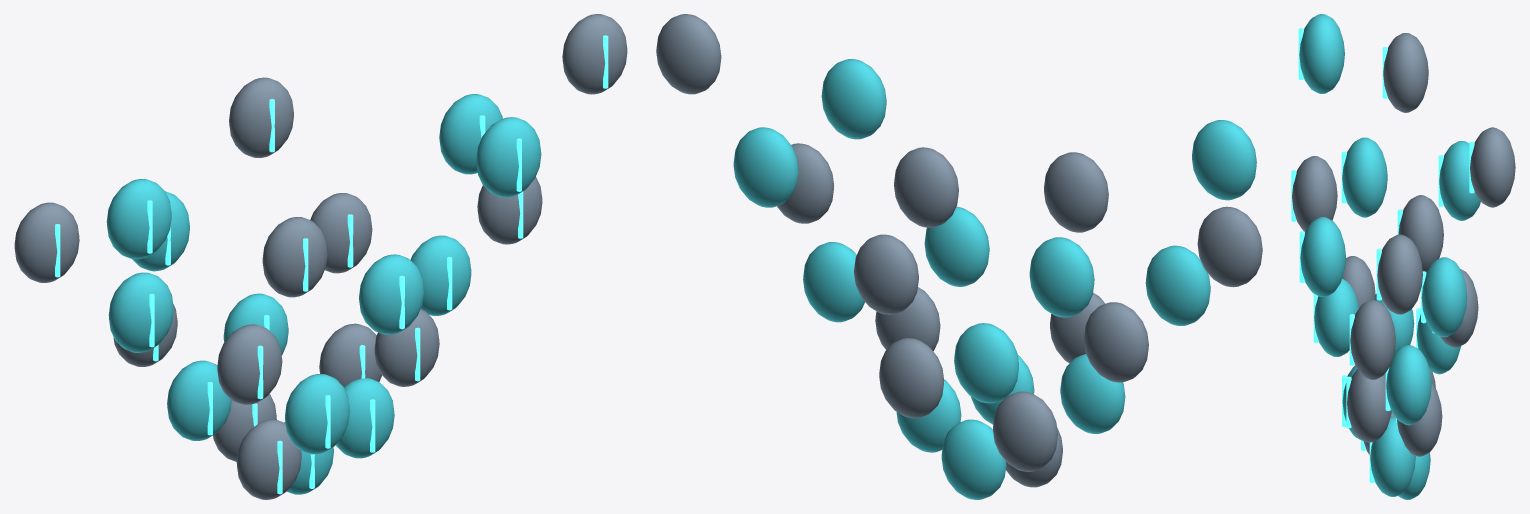
Rendered from swarm_v6.glb.
3 views of the same model, side by side, from view 1: azimuth 30°, elevation 25°; view 2: azimuth 150°, elevation 25°; view 3: azimuth 270°, elevation 25° (orthographic). The views are drawn at different scales.
Parts seen in each view (by area): view 1: BEETLE_SWARM_ACCENT.002, BEETLE_SWARM_ACCENT.011, BEETLE_SWARM_ACCENT.007, BEETLE_SWARM_PRIMARY.009, BEETLE_SWARM_PRIMARY.008, BEETLE_SWARM_PRIMARY.011, BEETLE_SWARM_ACCENT.010, BEETLE_SWARM_PRIMARY.004, BEETLE_SWARM_ACCENT.006, BEETLE_SWARM_PRIMARY.010, BEETLE_SWARM_PRIMARY, BEETLE_SWARM_ACCENT.003 (+12 smaller); view 2: BEETLE_SWARM_ACCENT.008, BEETLE_SWARM_ACCENT.010, BEETLE_SWARM_PRIMARY.010, BEETLE_SWARM_PRIMARY.005, BEETLE_SWARM_PRIMARY.006, BEETLE_SWARM_ACCENT.009, BEETLE_SWARM_PRIMARY.001, BEETLE_SWARM_PRIMARY.008, BEETLE_SWARM_ACCENT.004, BEETLE_SWARM_PRIMARY.009, BEETLE_SWARM_PRIMARY.011, BEETLE_SWARM_ACCENT.011 (+12 smaller); view 3: BEETLE_SWARM_ACCENT.011, BEETLE_SWARM_ACCENT.009, BEETLE_SWARM_ACCENT.007, BEETLE_SWARM_ACCENT.010, BEETLE_SWARM_PRIMARY.007, BEETLE_SWARM_PRIMARY.009, BEETLE_SWARM_PRIMARY.010, BEETLE_SWARM_PRIMARY.011, BEETLE_SWARM_ACCENT.005, BEETLE_SWARM_PRIMARY.008, BEETLE_SWARM_PRIMARY.003, BEETLE_SWARM_ACCENT.001 (+9 smaller).
Part boxes in pixels (bbox=[...]): BEETLE_SWARM_ACCENT.002: bbox=[285, 374, 349, 454]; BEETLE_SWARM_ACCENT.011: bbox=[106, 179, 171, 259]; BEETLE_SWARM_ACCENT.007: bbox=[108, 272, 173, 352]; BEETLE_SWARM_PRIMARY.009: bbox=[14, 202, 79, 282]; BEETLE_SWARM_PRIMARY.008: bbox=[262, 217, 327, 297]; BEETLE_SWARM_PRIMARY.011: bbox=[562, 14, 627, 94]; BEETLE_SWARM_ACCENT.010: bbox=[476, 117, 541, 197]; BEETLE_SWARM_PRIMARY.004: bbox=[217, 324, 282, 404]; BEETLE_SWARM_ACCENT.006: bbox=[359, 254, 423, 334]; BEETLE_SWARM_PRIMARY.010: bbox=[229, 77, 293, 157]; BEETLE_SWARM_PRIMARY: bbox=[236, 419, 301, 499]; BEETLE_SWARM_ACCENT.003: bbox=[167, 360, 231, 440]; BEETLE_SWARM_ACCENT.008: bbox=[1029, 237, 1094, 317]; BEETLE_SWARM_ACCENT.010: bbox=[821, 59, 886, 139]; BEETLE_SWARM_PRIMARY.010: bbox=[894, 147, 958, 227]; BEETLE_SWARM_PRIMARY.005: bbox=[1084, 302, 1148, 382]; BEETLE_SWARM_PRIMARY.006: bbox=[854, 234, 918, 314]; BEETLE_SWARM_ACCENT.009: bbox=[733, 127, 798, 207]; BEETLE_SWARM_PRIMARY.001: bbox=[993, 391, 1057, 471]; BEETLE_SWARM_PRIMARY.008: bbox=[1044, 152, 1108, 232]; BEETLE_SWARM_ACCENT.004: bbox=[954, 323, 1018, 403]; BEETLE_SWARM_PRIMARY.009: bbox=[1197, 206, 1262, 287]; BEETLE_SWARM_PRIMARY.011: bbox=[656, 14, 721, 94]; BEETLE_SWARM_ACCENT.011: bbox=[1192, 120, 1256, 200]; BEETLE_SWARM_ACCENT.011: bbox=[1299, 14, 1344, 93]; BEETLE_SWARM_ACCENT.009: bbox=[1421, 257, 1467, 337]; BEETLE_SWARM_ACCENT.007: bbox=[1342, 137, 1387, 217]; BEETLE_SWARM_ACCENT.010: bbox=[1300, 217, 1345, 296]; BEETLE_SWARM_PRIMARY.007: bbox=[1350, 300, 1395, 379]; BEETLE_SWARM_PRIMARY.009: bbox=[1383, 33, 1428, 112]; BEETLE_SWARM_PRIMARY.010: bbox=[1470, 127, 1515, 207]; BEETLE_SWARM_PRIMARY.011: bbox=[1377, 234, 1422, 314]; BEETLE_SWARM_ACCENT.005: bbox=[1386, 345, 1431, 425]; BEETLE_SWARM_PRIMARY.008: bbox=[1292, 156, 1337, 231]; BEETLE_SWARM_PRIMARY.003: bbox=[1347, 369, 1391, 442]; BEETLE_SWARM_ACCENT.001: bbox=[1370, 417, 1415, 496].
Bounding box in the file's own units: 2.95 × 1.91 × 0.9773.
